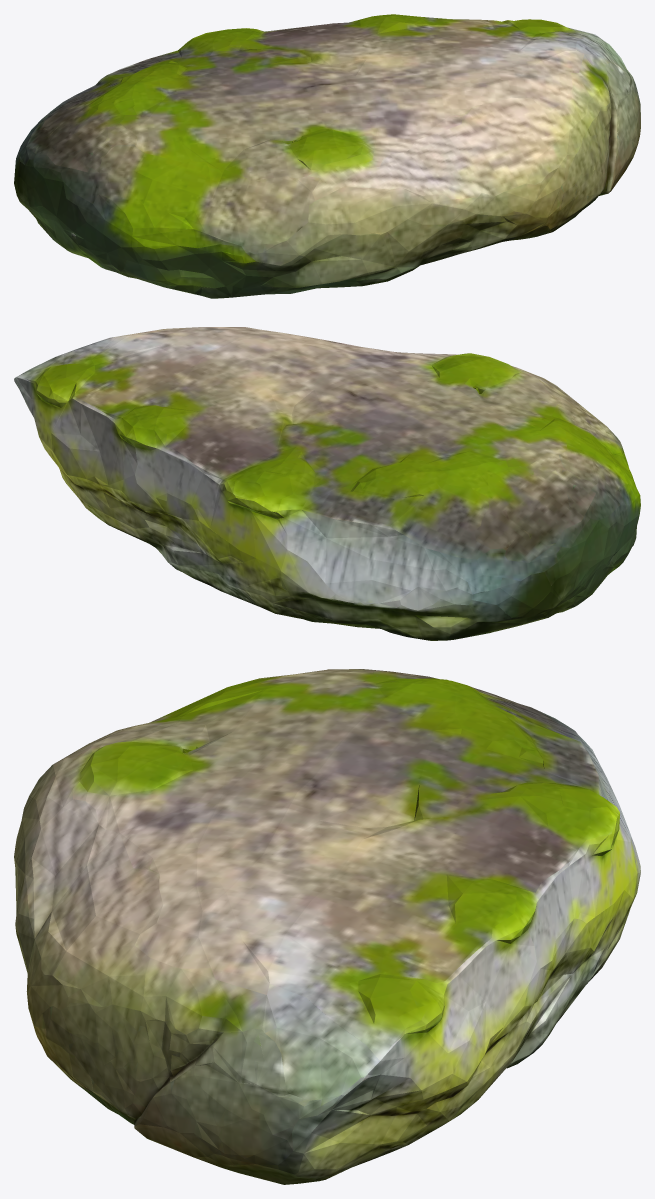
The model's file is swamp_bog_rock_01.glb.
3 renders of one model, top to bottom at view 1: azimuth 30°, elevation 25°; view 2: azimuth 150°, elevation 25°; view 3: azimuth 270°, elevation 25°, orthographic. The views are drawn at different scales.
Parts seen in each view (by area): view 1: geometry_0; view 2: geometry_0; view 3: geometry_0.
Boxes of the visible parts, x1=… form: geometry_0: x1=14, y1=14, x2=640, y2=298; geometry_0: x1=14, y1=327, x2=640, y2=640; geometry_0: x1=14, y1=669, x2=640, y2=1184.
Size of the model in its own units: 0.9991 by 0.2444 by 0.6597.
1 material, 1 textured.
